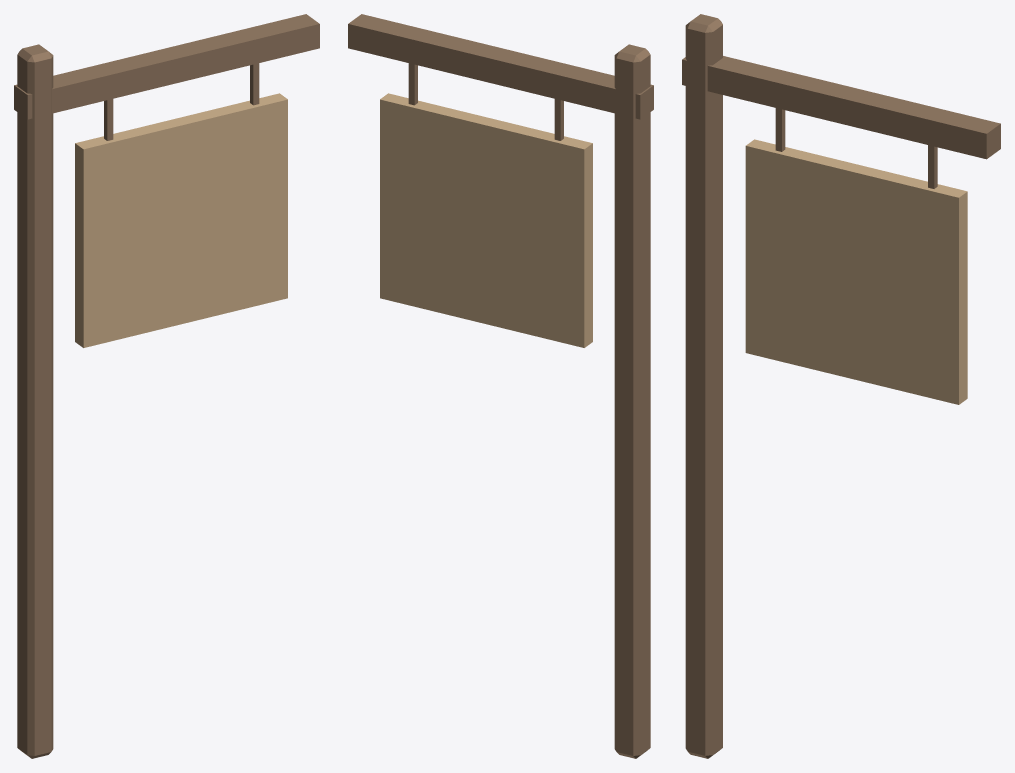
Rendered from shop-sign-frame.glb.
3 renders of one model, left to right at view 1: azimuth 30°, elevation 25°; view 2: azimuth 150°, elevation 25°; view 3: azimuth 330°, elevation 25°, orthographic. The views are drawn at different scales.
Parts seen in each view (by area): view 1: shop-sign-frame; view 2: shop-sign-frame; view 3: shop-sign-frame.
Boxes of the visible parts, x1,y1,x2,y2 form: shop-sign-frame: [14, 14, 319, 758]; shop-sign-frame: [348, 14, 653, 758]; shop-sign-frame: [682, 14, 1000, 758].
Bounding box in the file's own units: 0.9999 × 2.3 × 0.0901.
